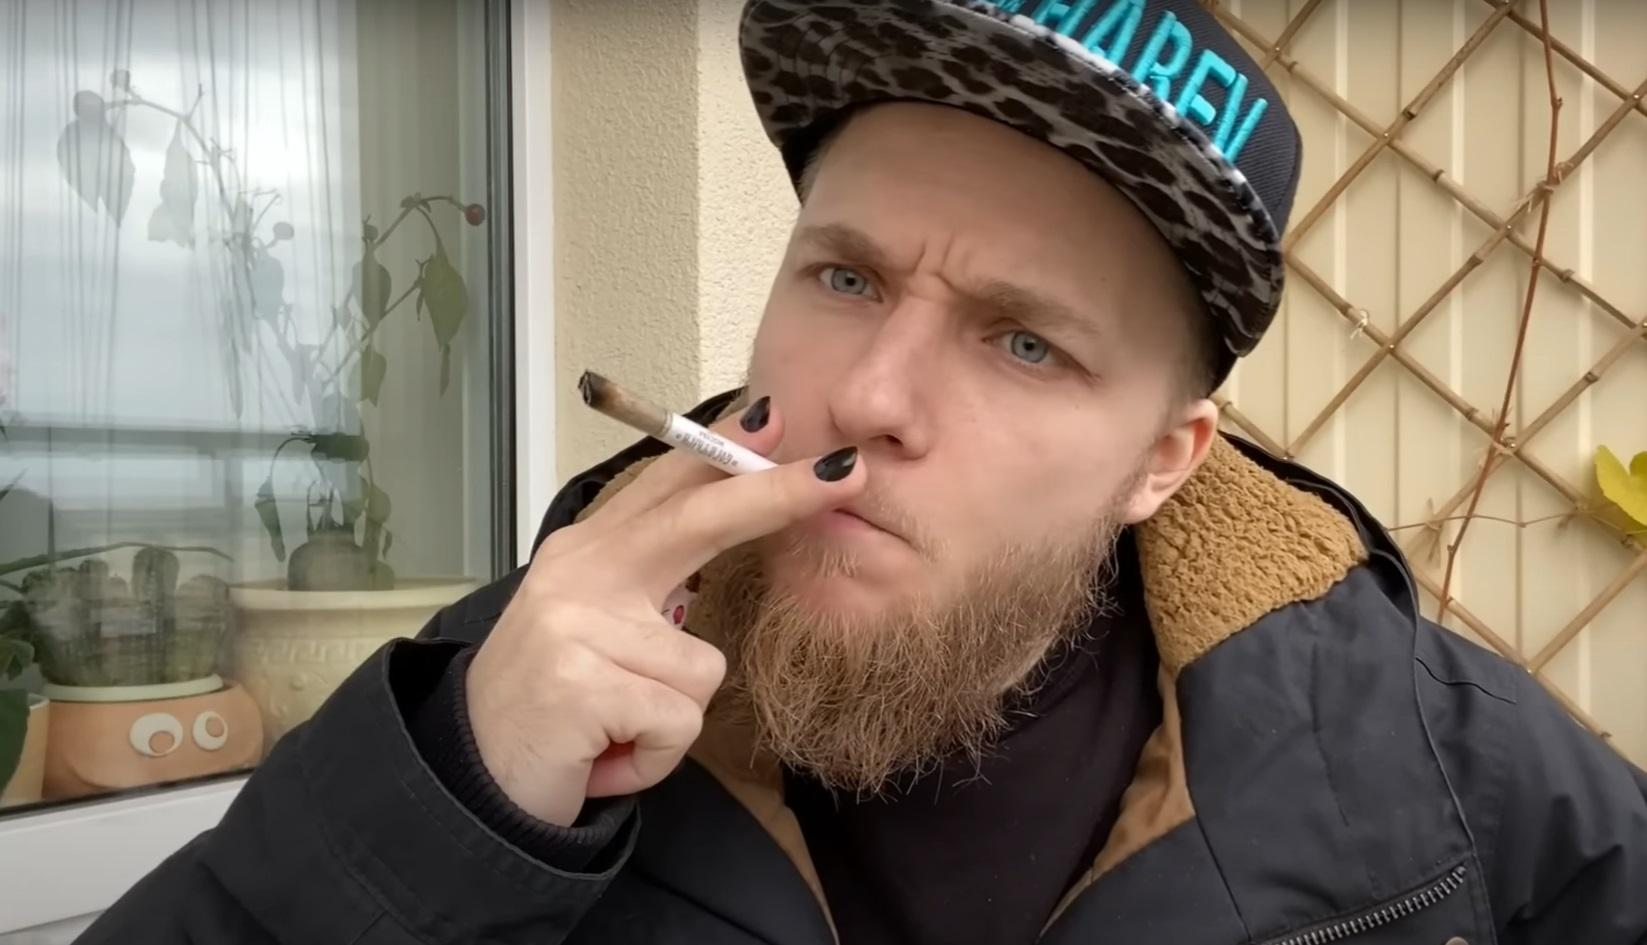cigarette: (574, 368, 781, 478)
